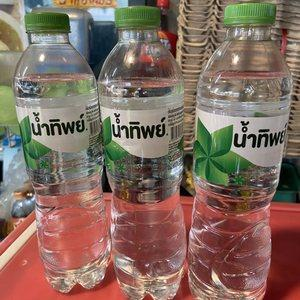plastic_bottle: (194, 4, 294, 300), (11, 12, 111, 295), (93, 6, 189, 298)
